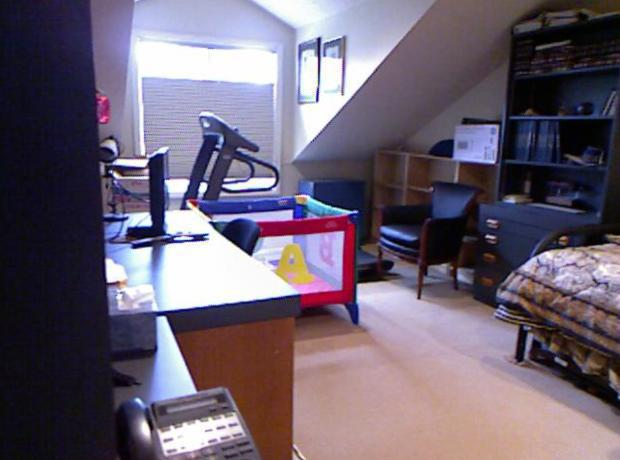Armario: (476, 11, 616, 294)
